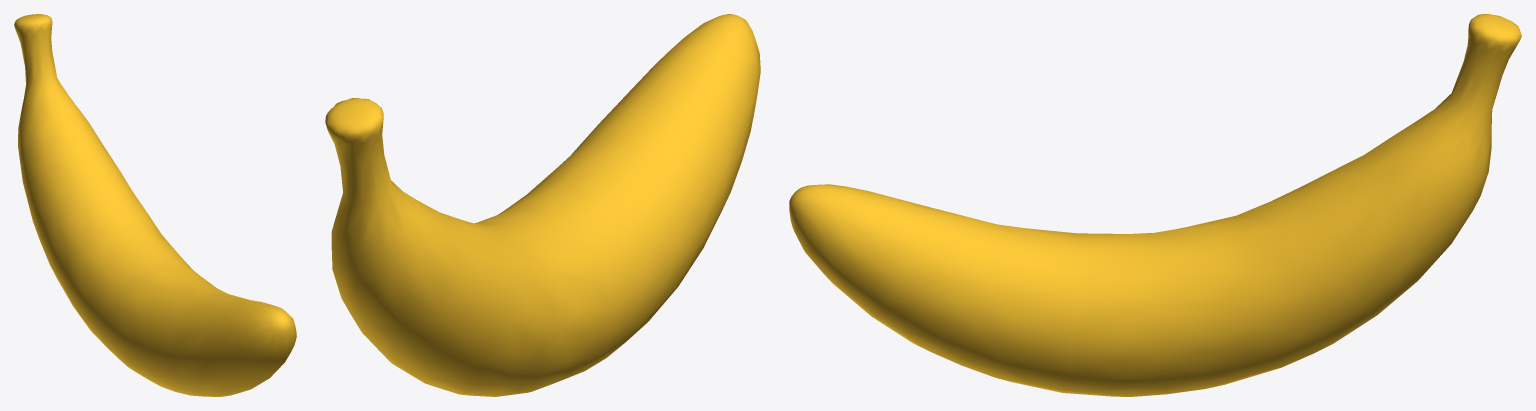
Rendered from Banana.fbx.
3 renders of one model, left to right at view 1: azimuth 30°, elevation 25°; view 2: azimuth 150°, elevation 25°; view 3: azimuth 270°, elevation 25°, orthographic. The views are drawn at different scales.
Parts seen in each view (by area): view 1: Banana; view 2: Banana; view 3: Banana.
Boxes of the visible parts, x1,y1,x2,y2 form: Banana: (14,14,296,396); Banana: (325,14,760,396); Banana: (789,14,1521,396).
Size of the model in its own units: 37.34 by 92.68 by 166.
